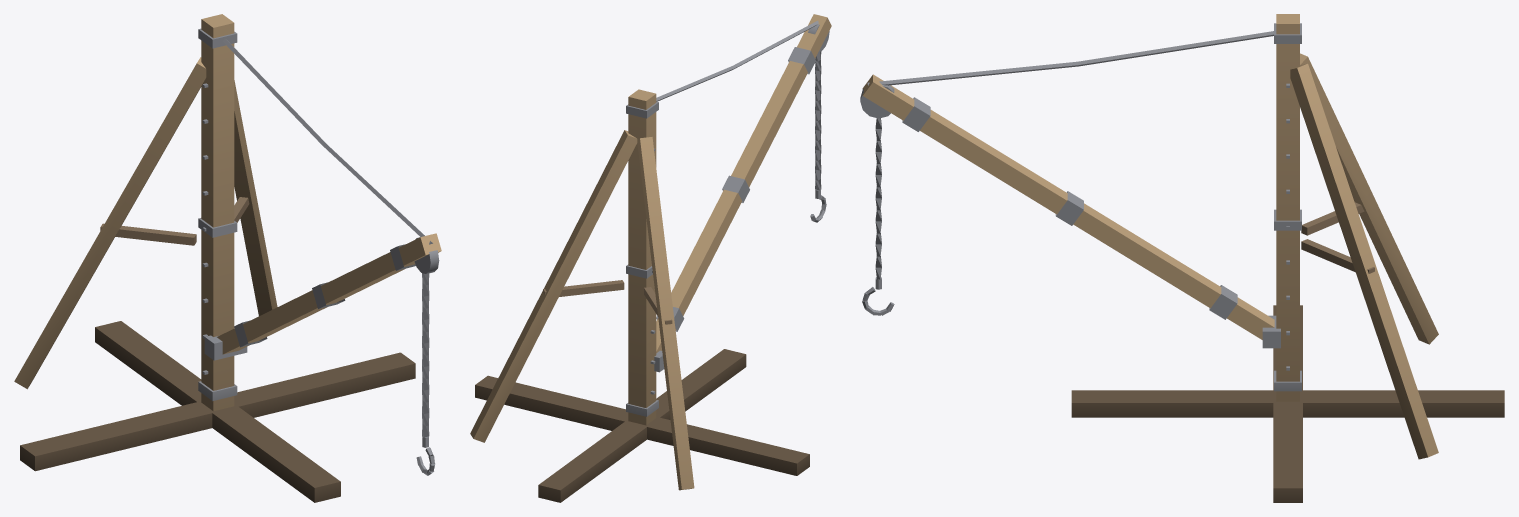
The model's file is rig_crane.glb.
3 views of the same model, side by side, from view 1: azimuth 30°, elevation 25°; view 2: azimuth 150°, elevation 25°; view 3: azimuth 270°, elevation 25° (orthographic). The views are drawn at different scales.
Parts seen in each view (by area): view 1: rig_crane, boom, lift; view 2: rig_crane, boom, lift; view 3: rig_crane, boom, lift.
Part boxes in pixels (box(x1,y1,x2,y2)): rig_crane: box(14, 14, 415, 502); boom: box(217, 233, 441, 475); lift: box(223, 38, 432, 244); rig_crane: box(470, 89, 809, 502); boom: box(656, 14, 831, 352); lift: box(656, 20, 818, 101); rig_crane: box(1071, 14, 1504, 502); boom: box(860, 74, 1274, 339); lift: box(867, 31, 1273, 85).
Bounding box in the file's own units: 8 × 8 × 11.9.
